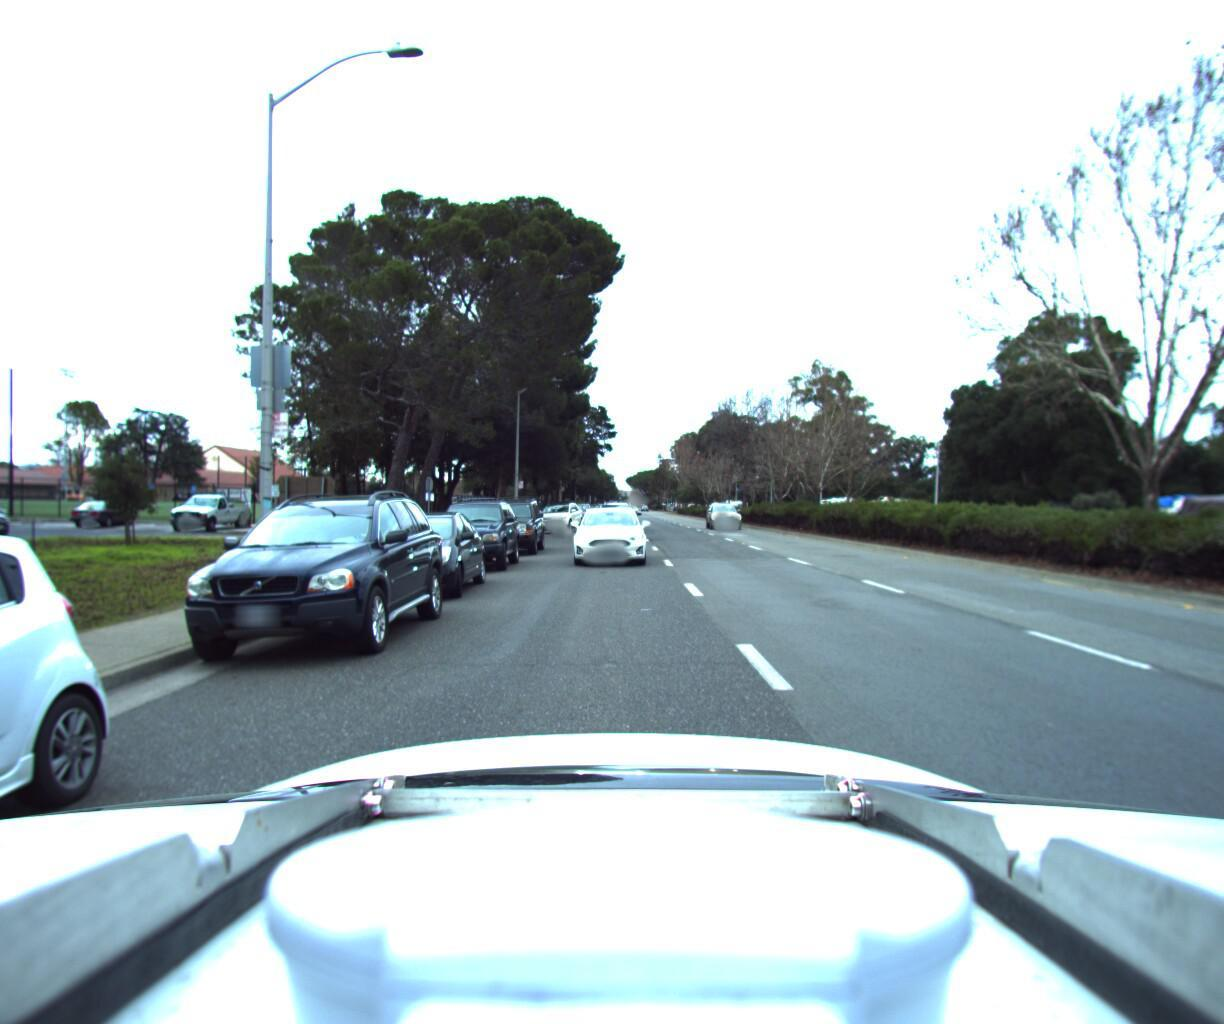car: (0, 517, 134, 1024), (148, 477, 452, 688), (343, 503, 492, 605), (420, 488, 525, 568), (468, 486, 545, 552), (571, 499, 647, 564), (529, 493, 585, 526), (703, 495, 742, 525), (543, 491, 578, 521)
other_vehicle: (1134, 482, 1224, 562), (861, 485, 916, 523)
